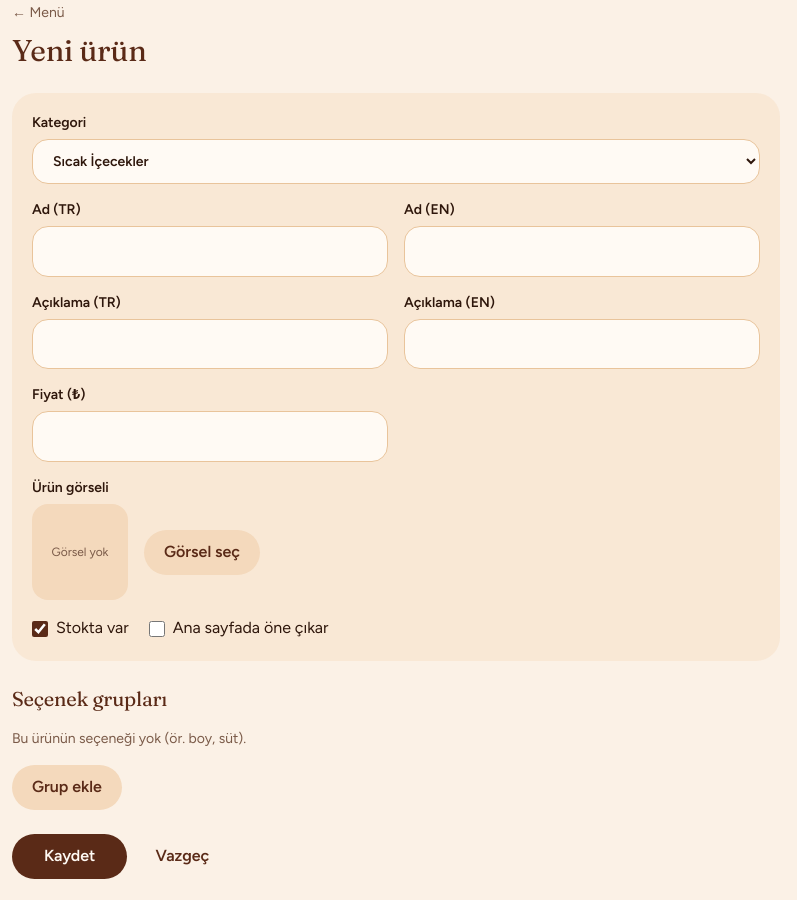
Test: ProductEditorPage › rejects a zero price
The width and height of the screenshot is (797, 900).
Type "Su" into the field labelled "Ad (TR)" at (210, 251), box 32,226 -> 388,277
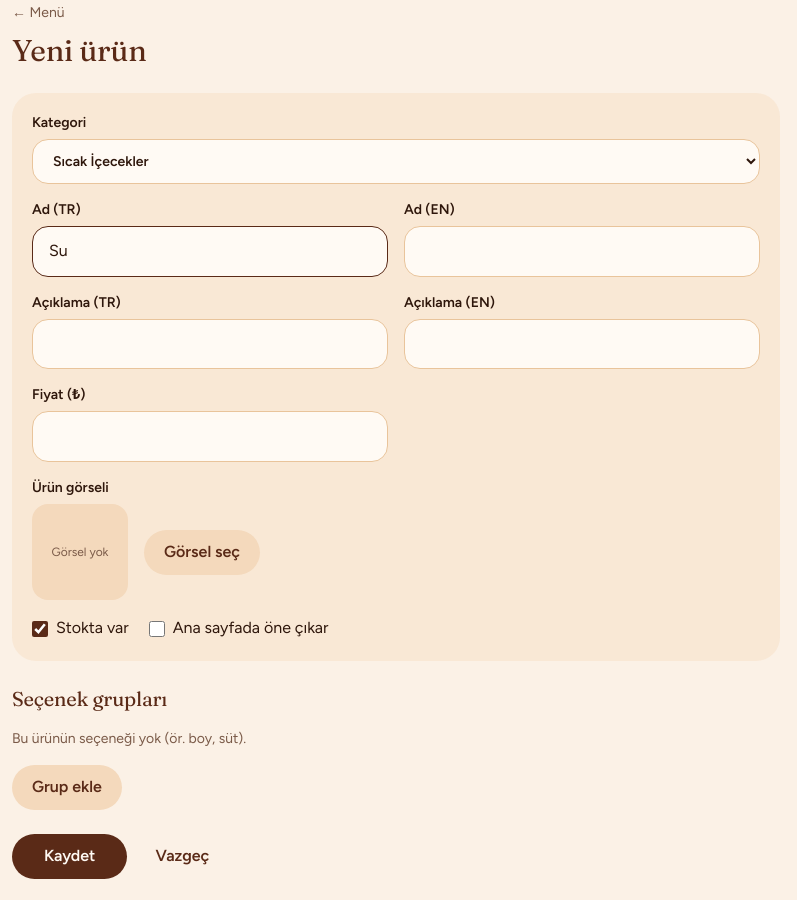
Type "0" into the field labelled "Fiyat (₺)" at (210, 437), box 32,411 -> 388,462
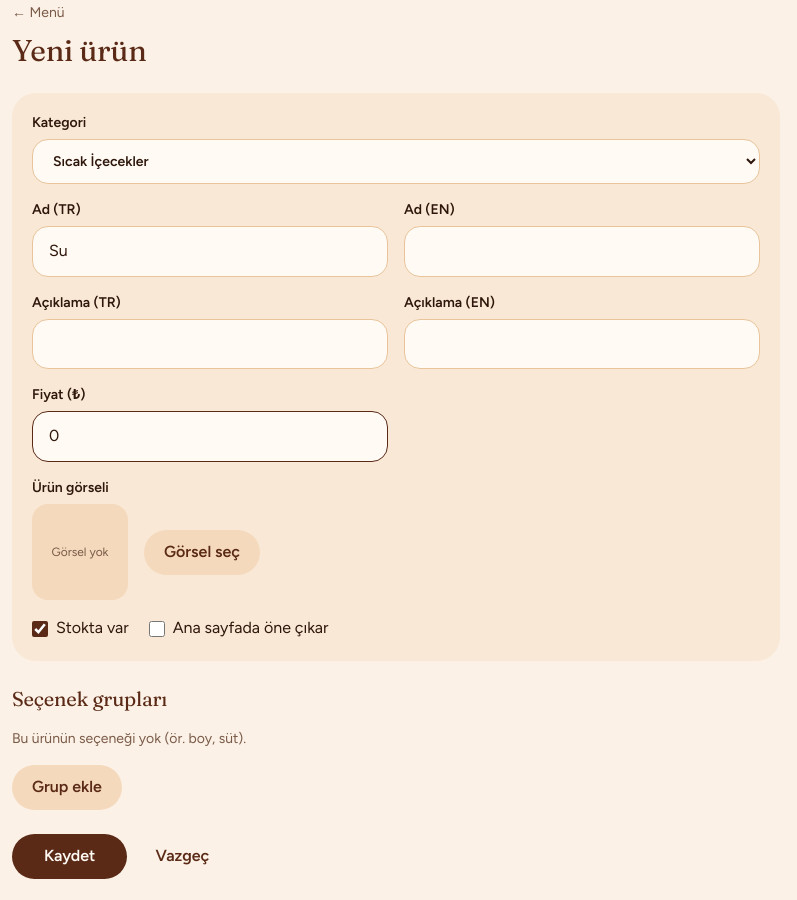
Click the button "Kaydet" at (70, 856), box 12,834 -> 127,879
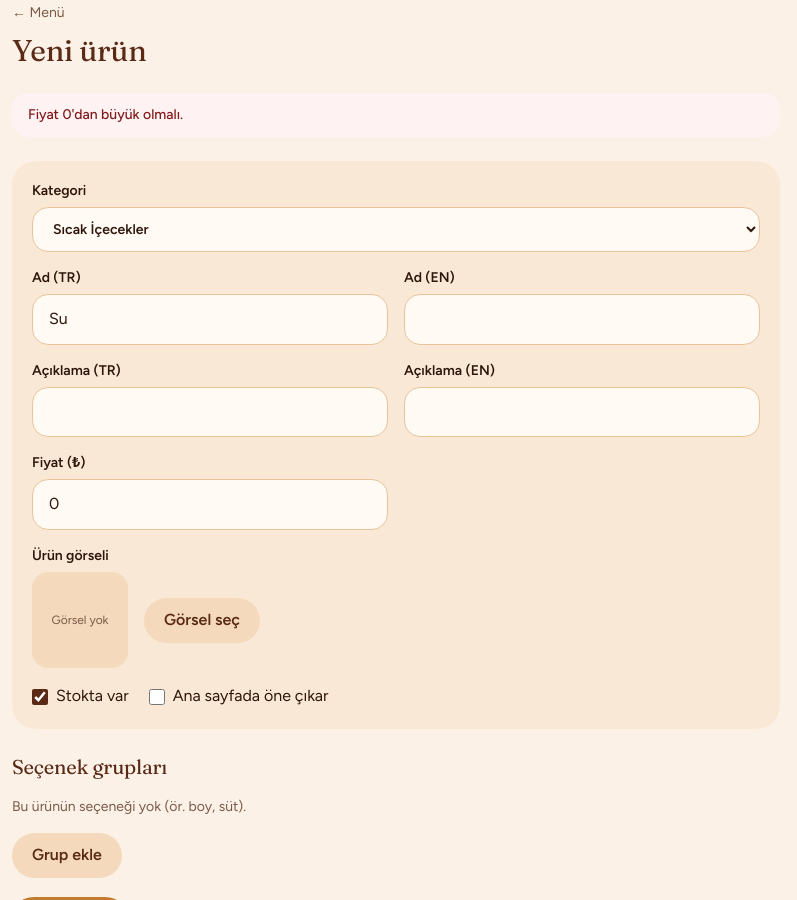
expect the message reads "Fiyat 0'dan büyük olmalı.": met, box 28,106 -> 183,123
